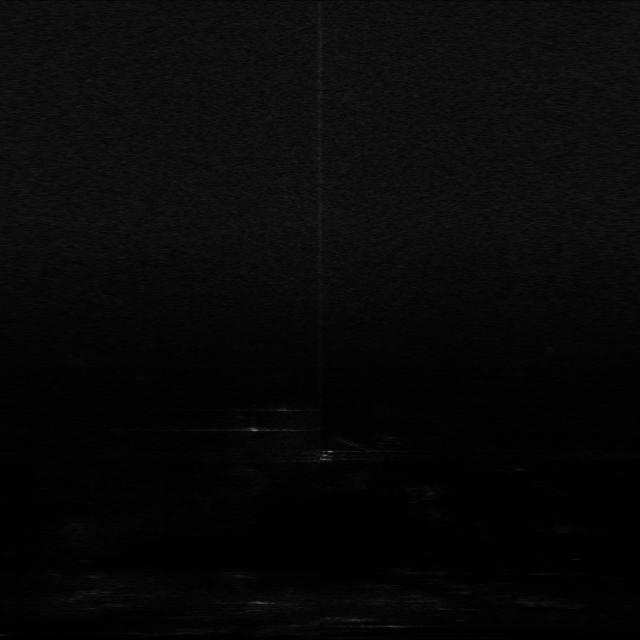rov: (310, 446, 340, 463)
